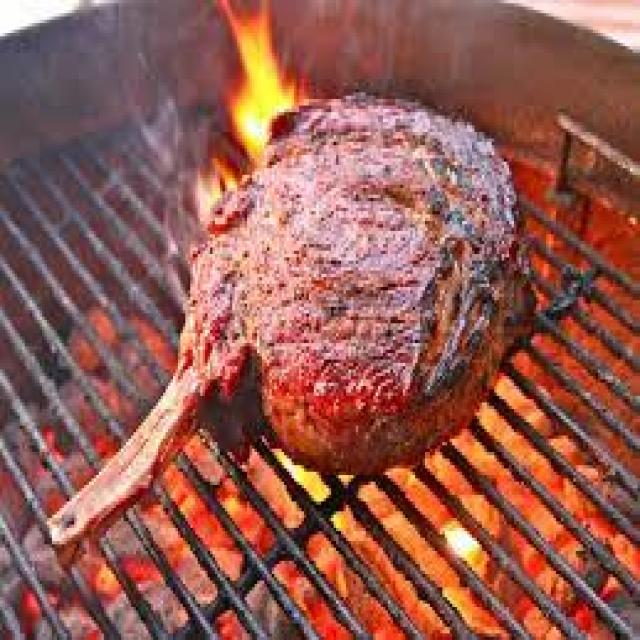Wet: (14, 81, 544, 561)
